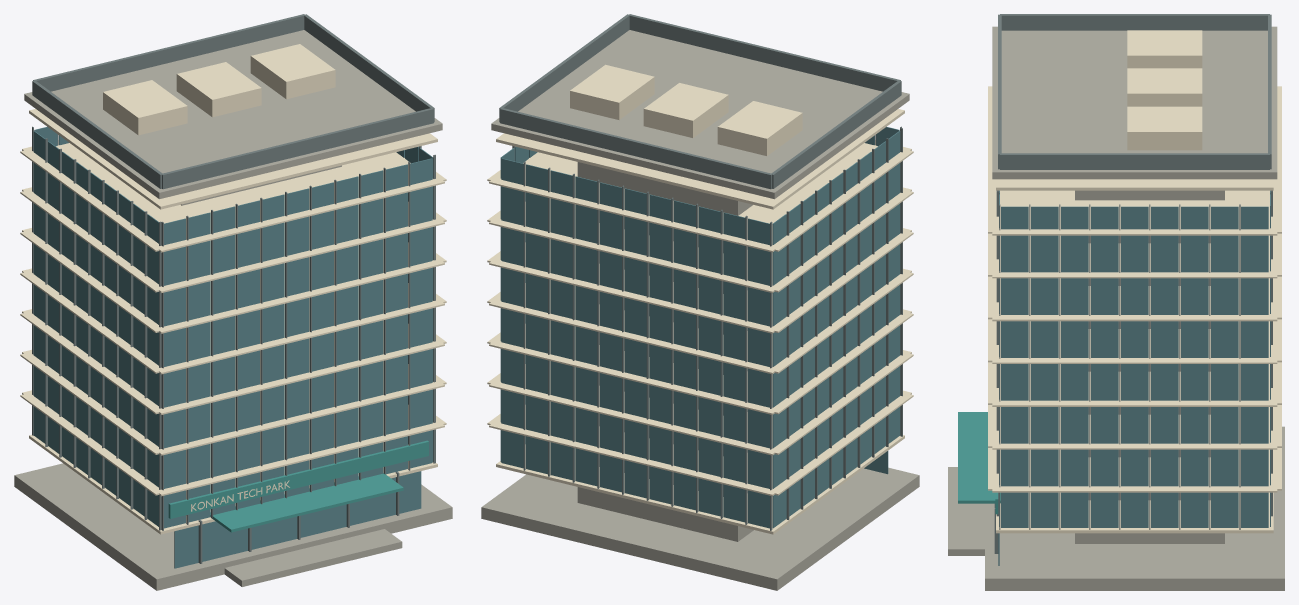
File: office-medium.glb
The picture shows the model from 3 angles, left to right: view 1: azimuth 30°, elevation 25°; view 2: azimuth 150°, elevation 25°; view 3: azimuth 270°, elevation 25°; orthographic projection. The views are drawn at different scales.
Visible parts, largest first — view 1: office_GLASS, office_CREAM, office_CONCRETE, office_METAL, office_AWNING; view 2: office_GLASS, office_CONCRETE, office_CREAM, office_METAL; view 3: office_GLASS, office_CONCRETE, office_CREAM, office_METAL, office_AWNING.
Part boxes in pixels (x1,y1,x2,y2): office_GLASS: [33, 126, 433, 568]; office_CREAM: [20, 44, 446, 534]; office_CONCRETE: [14, 30, 452, 590]; office_METAL: [32, 14, 435, 563]; office_AWNING: [168, 440, 428, 532]; office_GLASS: [500, 126, 900, 528]; office_CONCRETE: [481, 30, 919, 590]; office_CREAM: [487, 64, 913, 534]; office_METAL: [499, 14, 902, 530]; office_GLASS: [998, 190, 1270, 565]; office_CONCRETE: [948, 26, 1284, 590]; office_CREAM: [988, 30, 1281, 533]; office_METAL: [994, 14, 1272, 553]; office_AWNING: [958, 412, 1000, 514].
Size of the model in its own units: 24 by 31.9 by 22.45.
